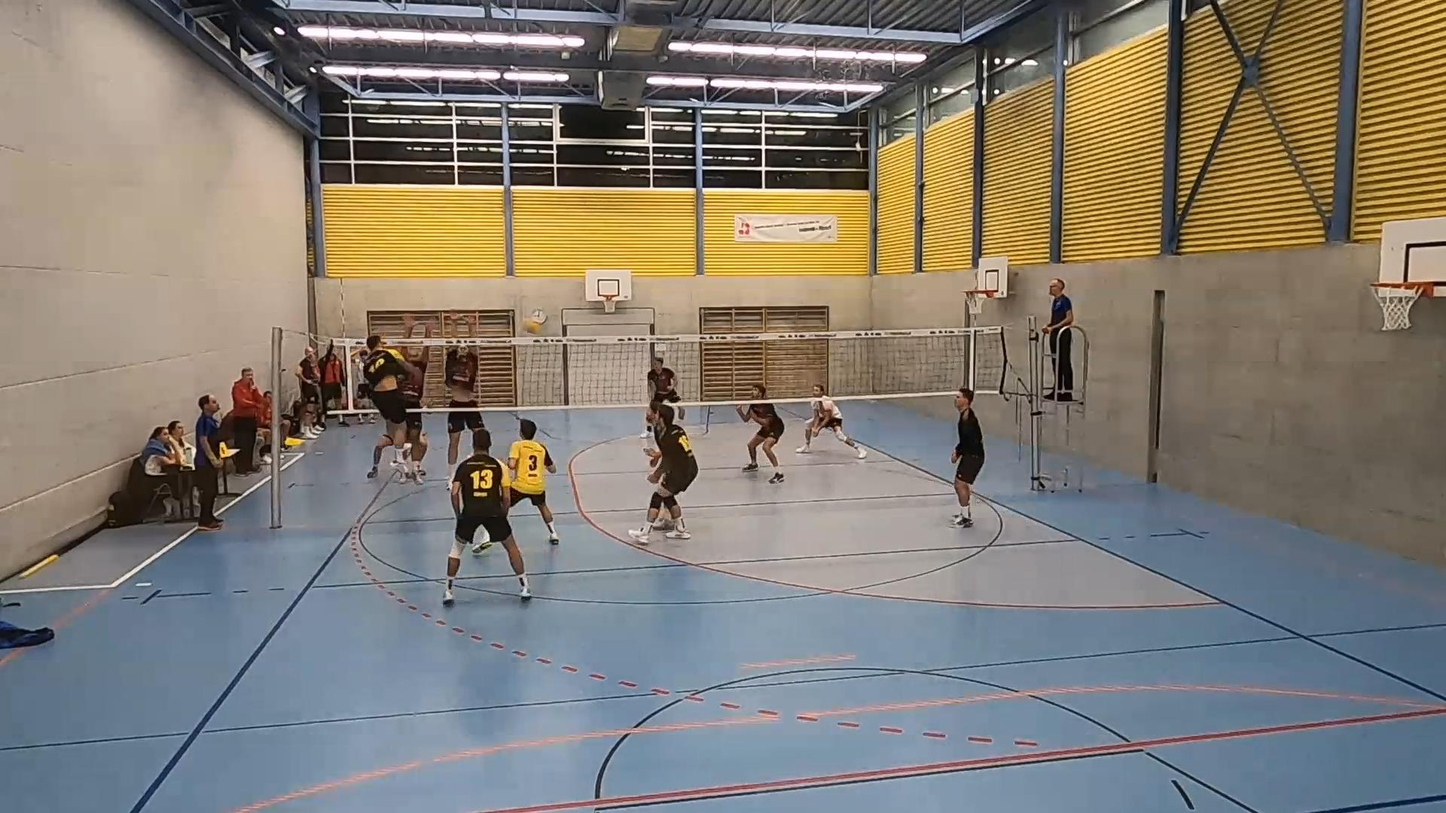attacco: (351, 335, 432, 474)
muro: (444, 306, 492, 498), (382, 309, 431, 488)
